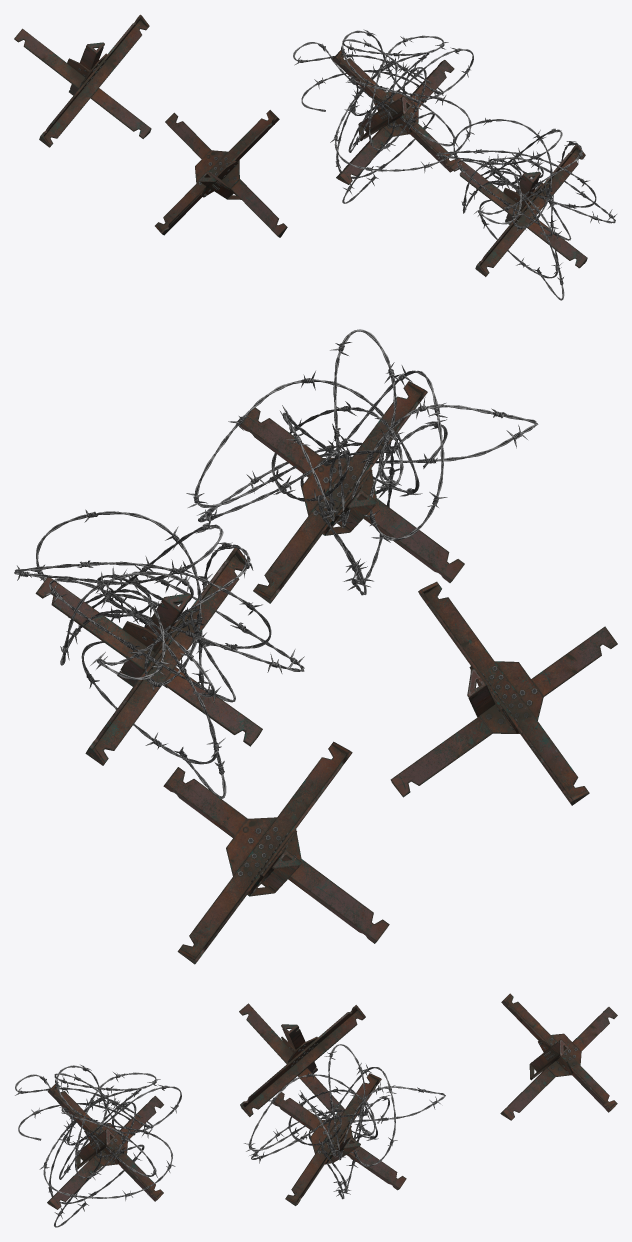
File: metal_barrier_tank_17_mb.glb
3 renders of one model, top to bottom at view 1: azimuth 30°, elevation 25°; view 2: azimuth 150°, elevation 25°; view 3: azimuth 270°, elevation 25°, orthographic. The views are drawn at different scales.
Parts seen in each view (by area): view 1: 01_02_0 (×2), 01_1_02_0 (×2), 01_2_01_0, 01_3_01_0, 01_01_0, 01_1_01_0; view 2: 01_02_0 (×2), 01_2_01_0, 01_3_01_0, 01_1_02_0 (×2), 01_1_01_0, 01_01_0; view 3: 01_1_02_0 (×2), 01_02_0 (×2), 01_3_01_0, 01_2_01_0, 01_01_0, 01_1_01_0.
Part boxes in pixels (x1,y1,x2,y2): 01_02_0 (×2): (293,29,474,203); 01_1_02_0 (×2): (436,118,616,300); 01_2_01_0: (14,14,151,147); 01_3_01_0: (155,110,287,237); 01_01_0: (332,50,456,184); 01_1_01_0: (450,144,587,276); 01_02_0 (×2): (14,509,304,798); 01_2_01_0: (163,741,389,964); 01_3_01_0: (390,581,617,805); 01_1_02_0 (×2): (186,329,538,595); 01_1_01_0: (240,381,464,603); 01_01_0: (35,548,262,765); 01_1_02_0 (×2): (15,1064,181,1227); 01_02_0 (×2): (244,1044,445,1199); 01_3_01_0: (239,1003,365,1116); 01_2_01_0: (500,993,617,1120); 01_01_0: (272,1073,406,1205); 01_1_01_0: (47,1084,163,1209).
Bounding box in the file's own units: 4.78 × 2.26 × 7.96.
Materials: 2 (2 with a texture image).
